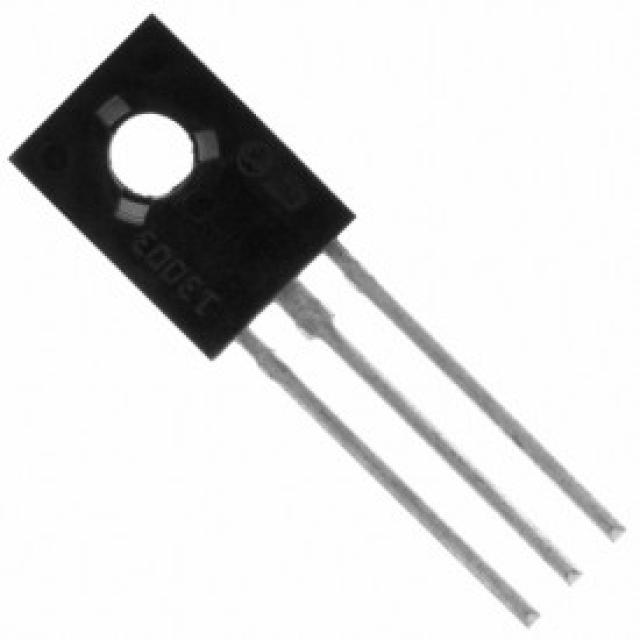Transistor: (16, 20, 618, 628)
